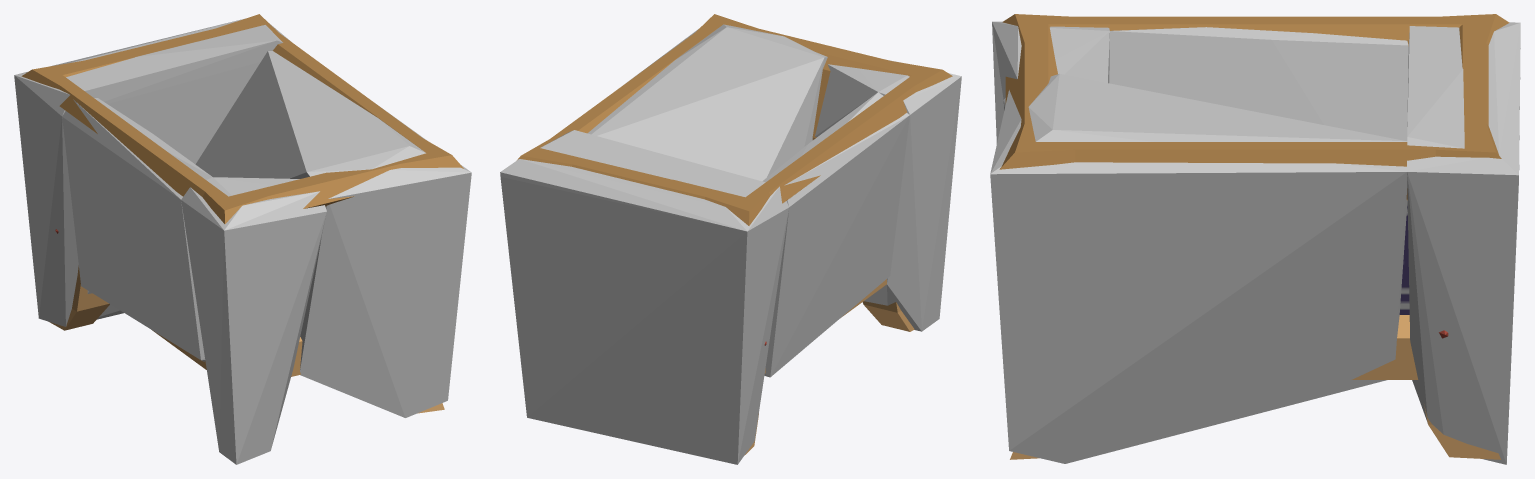
File: SM_Prop_Jewellery_Box_02.fbx
3 views of the same model, side by side, from view 1: azimuth 30°, elevation 25°; view 2: azimuth 150°, elevation 25°; view 3: azimuth 270°, elevation 25° (orthographic). The views are drawn at different scales.
Parts seen in each view (by area): view 1: SM_Prop_Jewellery_Box_02_ConvexHulls, SM_Prop_Jewellery_Box_02; view 2: SM_Prop_Jewellery_Box_02_ConvexHulls, SM_Prop_Jewellery_Box_02; view 3: SM_Prop_Jewellery_Box_02_ConvexHulls, SM_Prop_Jewellery_Box_02.
Part boxes in pixels (<box>): SM_Prop_Jewellery_Box_02_ConvexHulls: <box>14,18,471,464</box>; SM_Prop_Jewellery_Box_02: <box>21,14,463,413</box>; SM_Prop_Jewellery_Box_02_ConvexHulls: <box>500,24,961,464</box>; SM_Prop_Jewellery_Box_02: <box>517,14,952,455</box>; SM_Prop_Jewellery_Box_02_ConvexHulls: <box>990,21,1520,464</box>; SM_Prop_Jewellery_Box_02: <box>999,14,1509,459</box>.
Size of the model in its own units: 26 by 38.47 by 25.98.
Materials: 2 (1 with a texture image).
